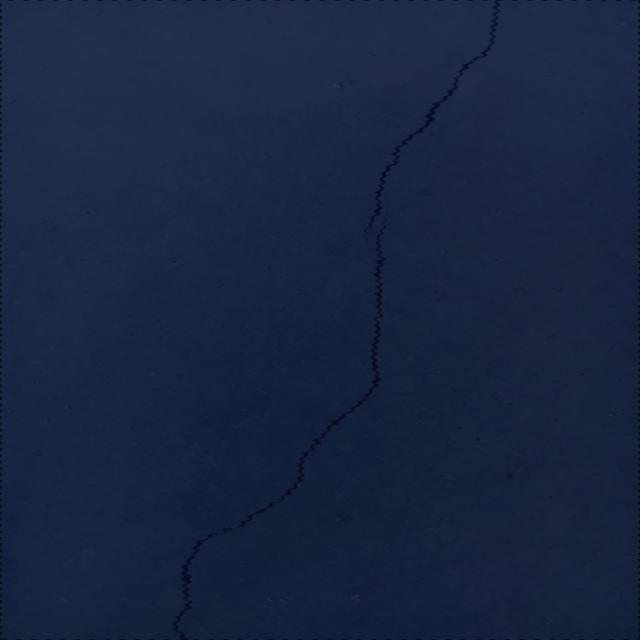crack: (172, 213, 388, 640), (362, 0, 500, 242)
